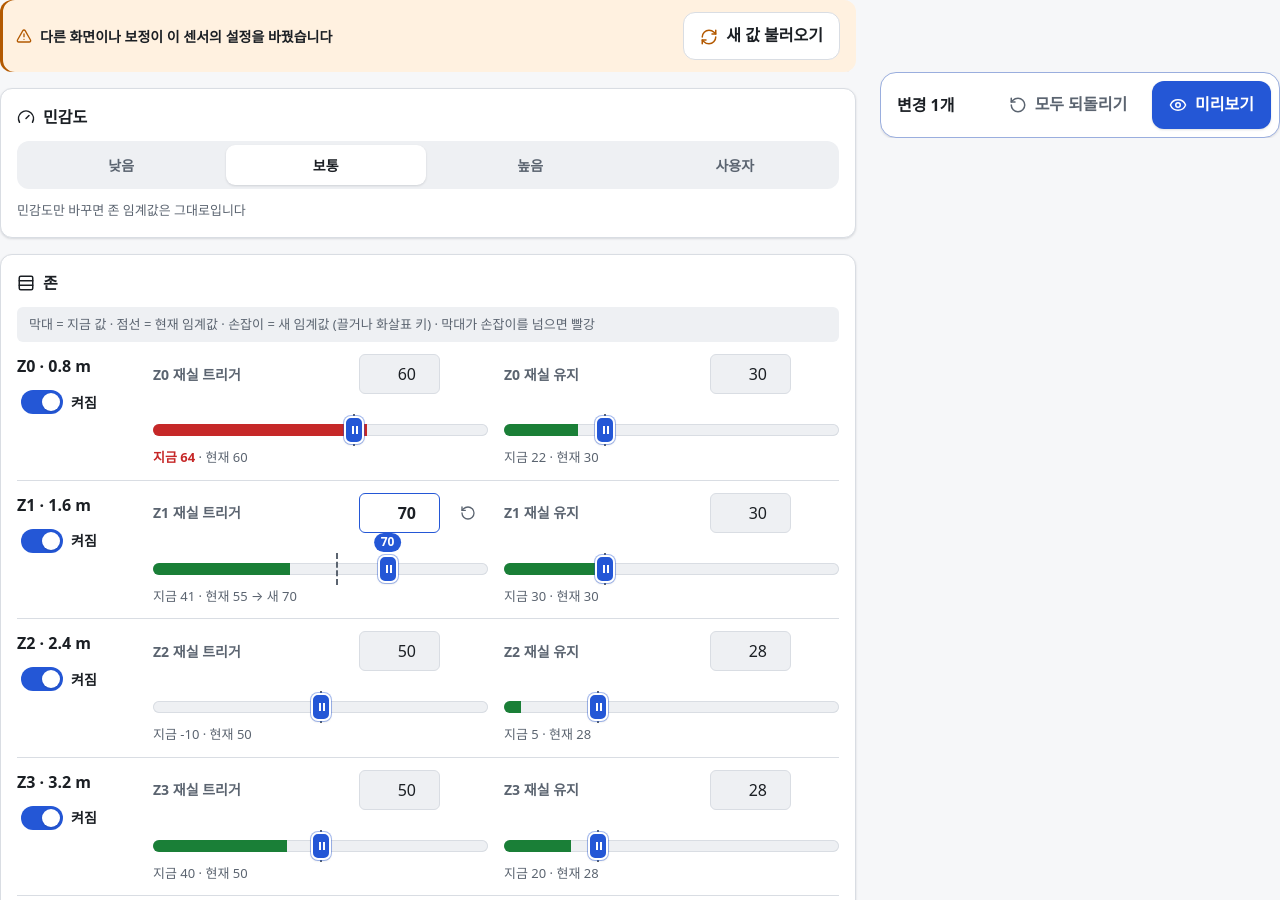
SettingsTab › config_rev moved: a banner offers the new values, which rebase the draft
This screenshot has width=1280, height=900.
Expected: the text "다른 화면이나 보정이 이 센서의 설정을 바꿨습니다" is shown, [16,26,332,46]
Click the button "새 값 불러오기": coordinates (762, 36) [683,12,840,60]
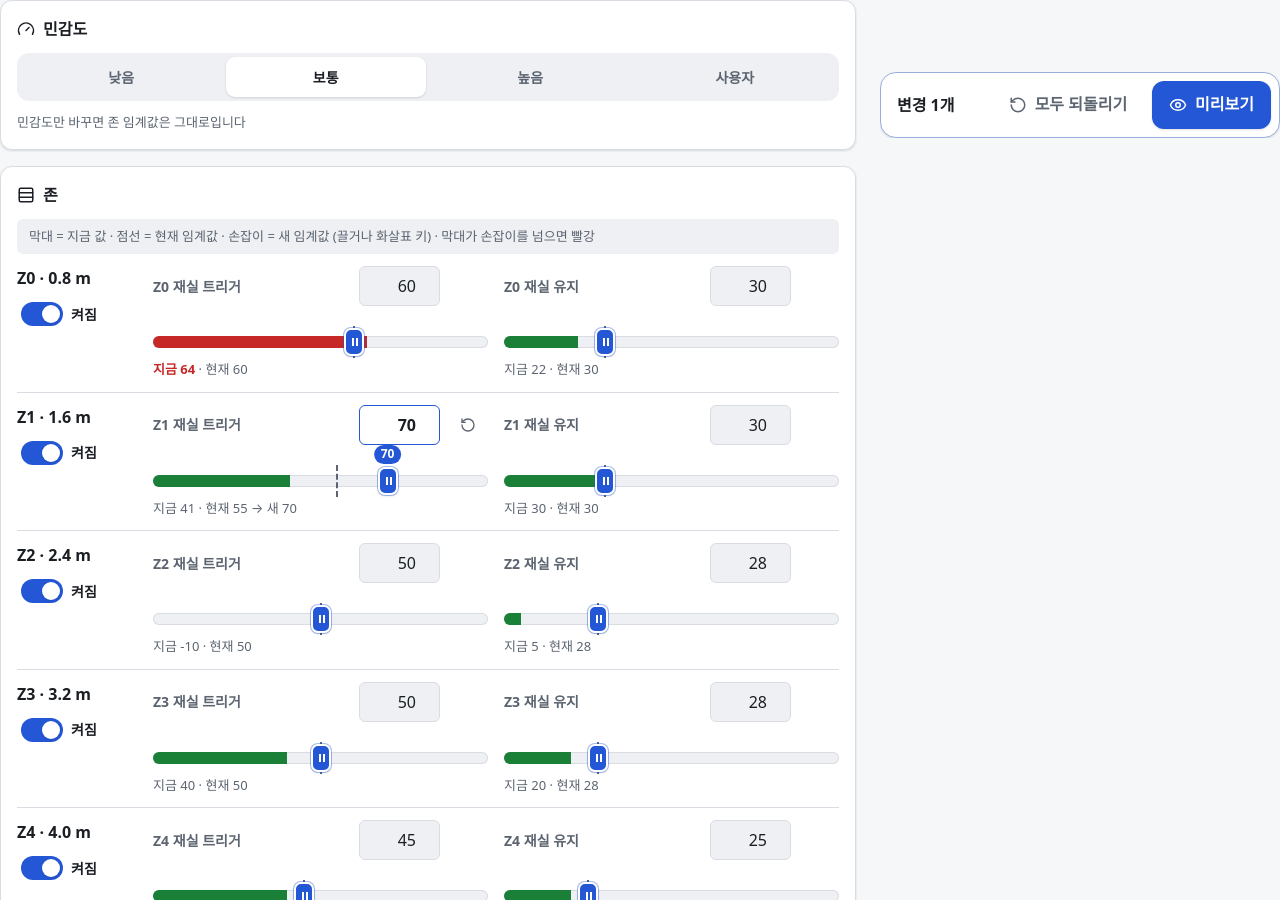
Now the text "다른 화면이나 보정이 이 센서의 설정을 바꿨습니다" is gone
